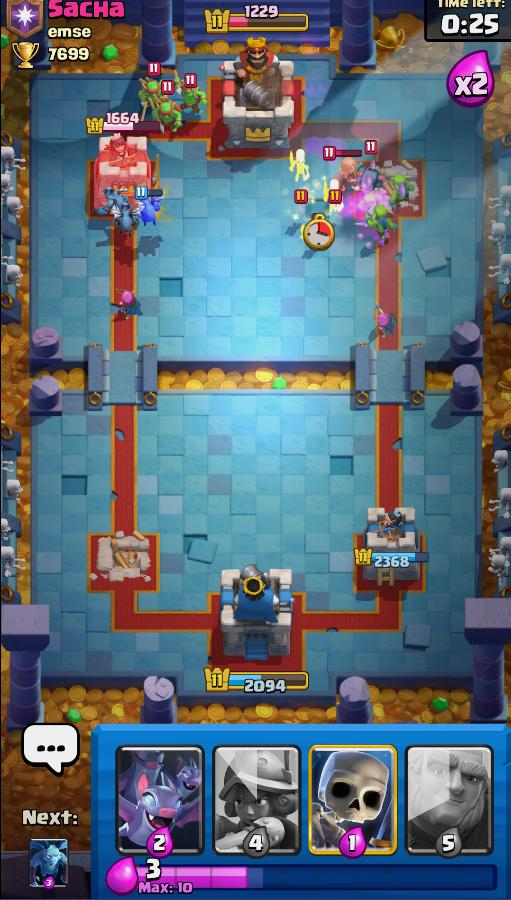archere: (98, 280, 156, 336), (364, 294, 416, 348)
gargouille: (130, 190, 169, 230), (108, 203, 147, 240), (95, 180, 131, 218)
gobelin: (364, 198, 403, 250), (381, 168, 421, 211)
gobelin_lances: (167, 73, 212, 117), (127, 78, 174, 117), (150, 99, 192, 138)
squelette: (314, 177, 359, 218), (283, 149, 318, 188)
valkyrie: (330, 149, 368, 198)
